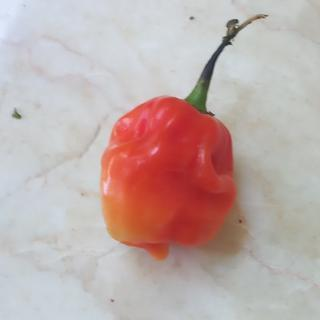Grade-B: (91, 87, 240, 261)
